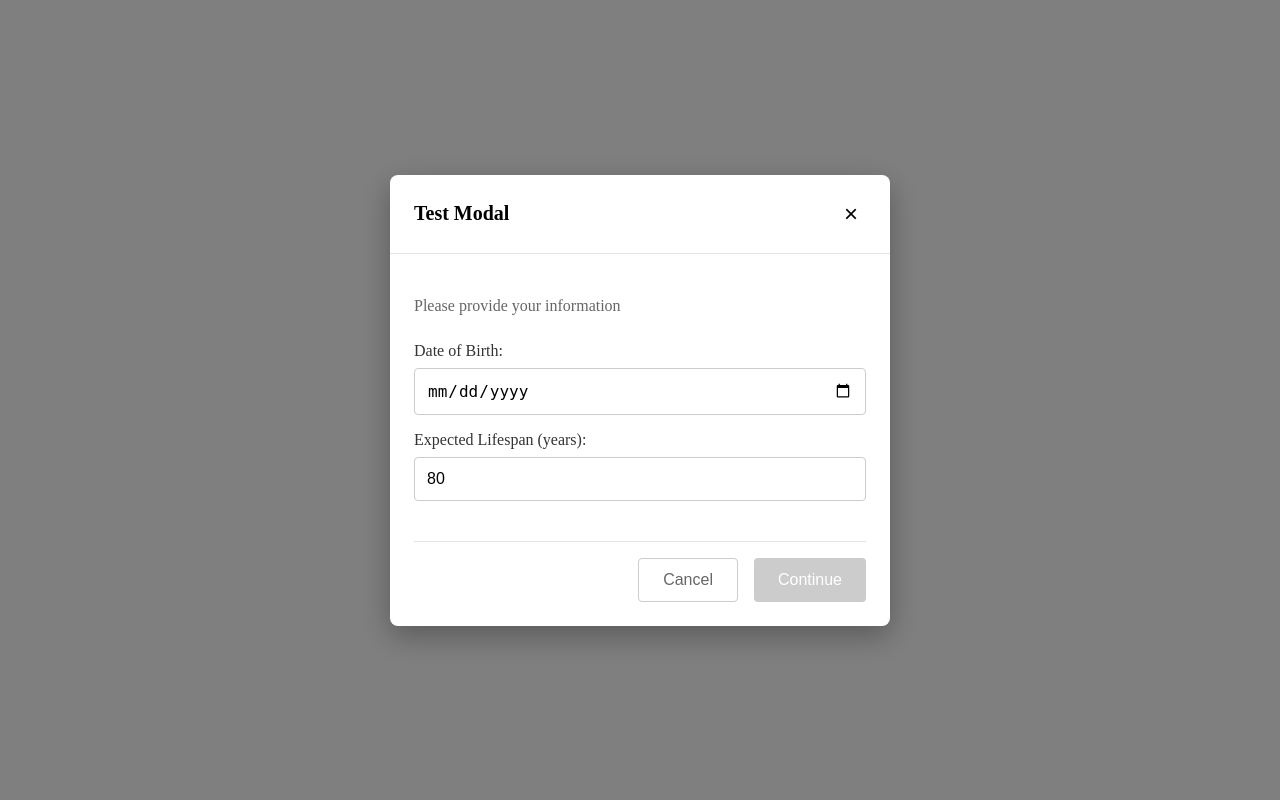
Test: UserConfirmationModal › Form Validation › should validate lifespan range
Type "1990-01-01" into the date field with id "birth-date".
click(640, 391); type("1990-01-01")  # box [414,368,866,414]
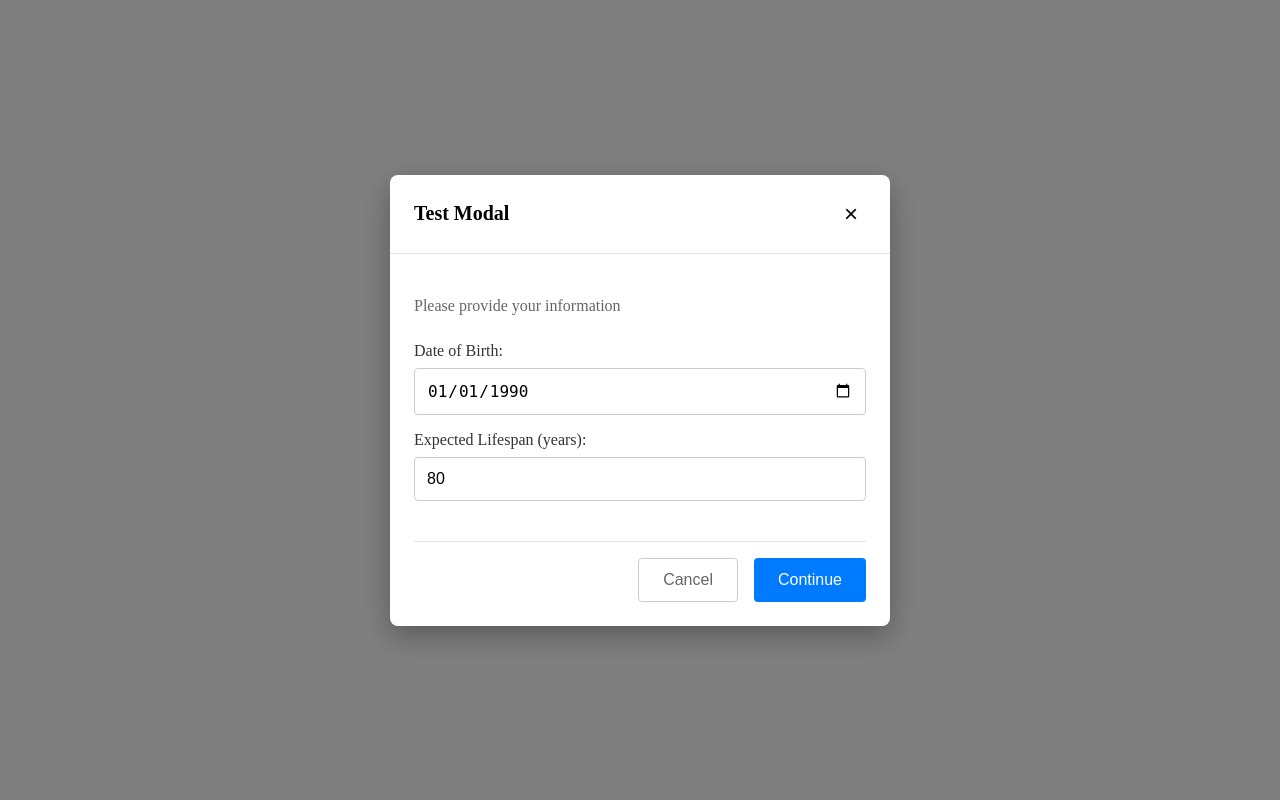
Test minimum lifespan
Replace the text in the number field with id "lifespan" with "49" at [640, 478], box [414,456,866,500]
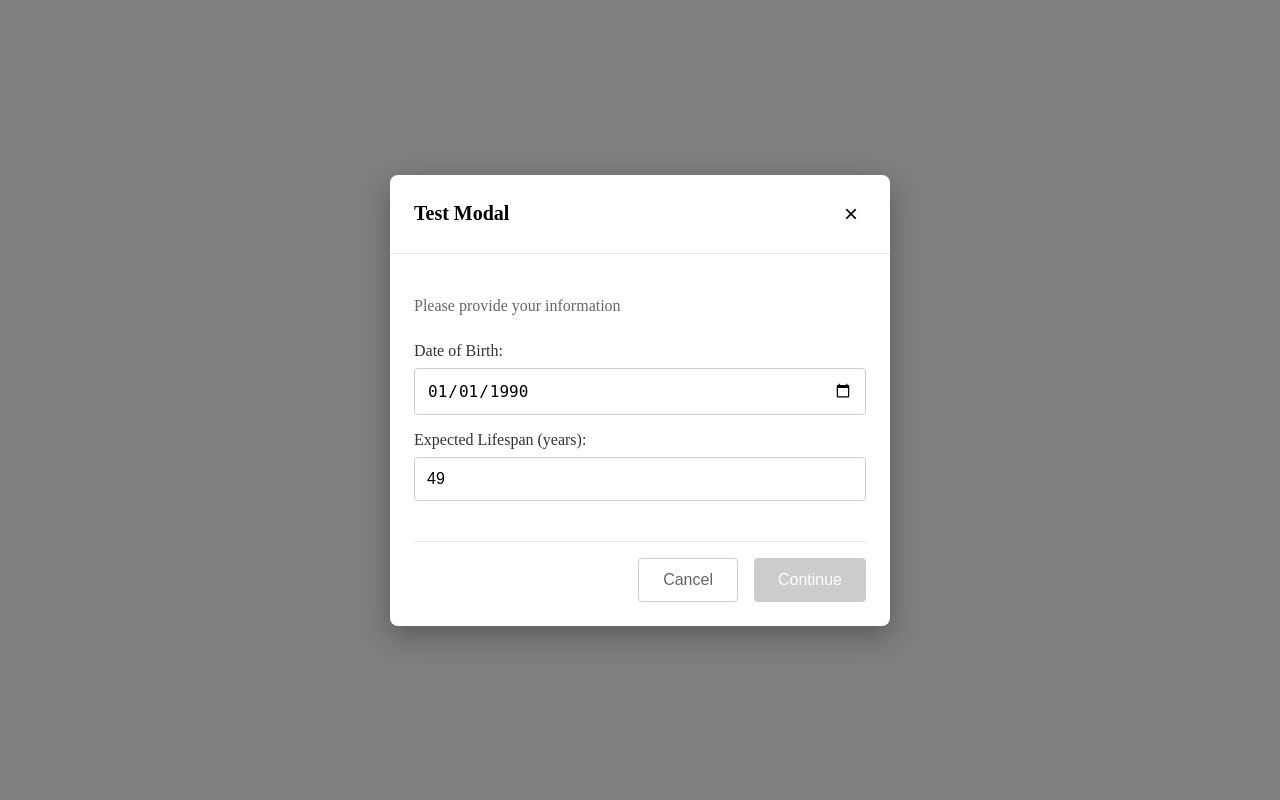
Expected: the submit button is disabled, [754,558,866,602]
Replace the text in the number field with id "lifespan" with "50" at [640, 478], box [414,456,866,500]
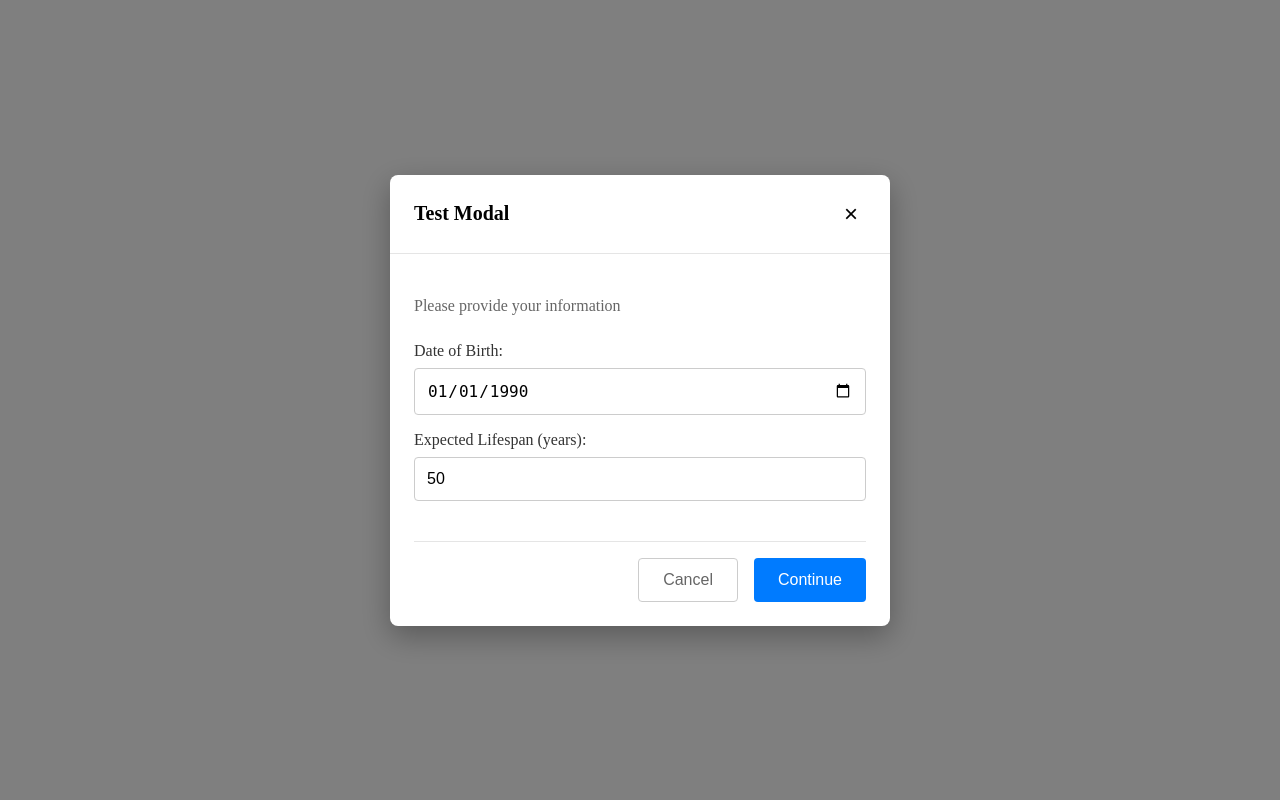
Expected: the submit button is enabled, [754,558,866,602]
Test maximum lifespan
Replace the text in the number field with id "lifespan" with "121" at [640, 478], box [414,456,866,500]
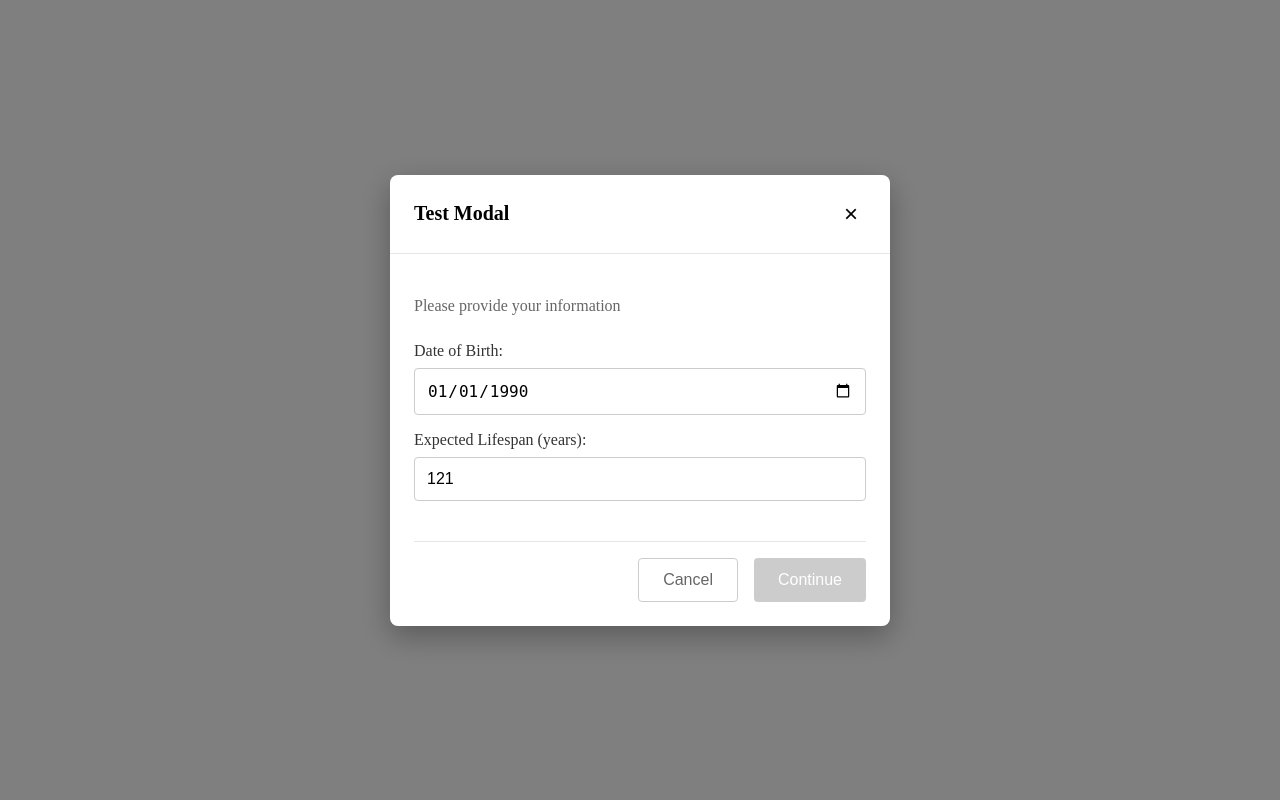
Expected: the submit button is disabled, [754,558,866,602]
Replace the text in the number field with id "lifespan" with "120" at [640, 478], box [414,456,866,500]
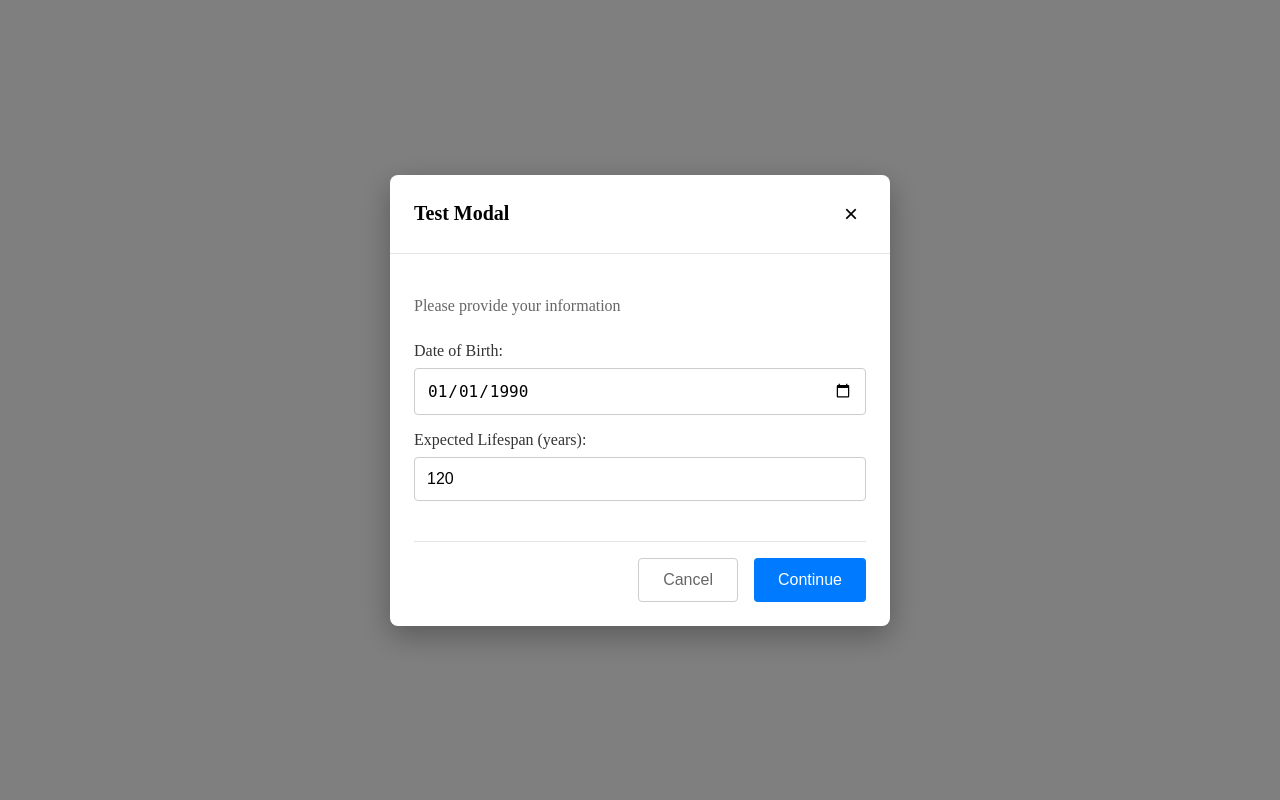
Expected: the submit button is enabled, [754,558,866,602]
